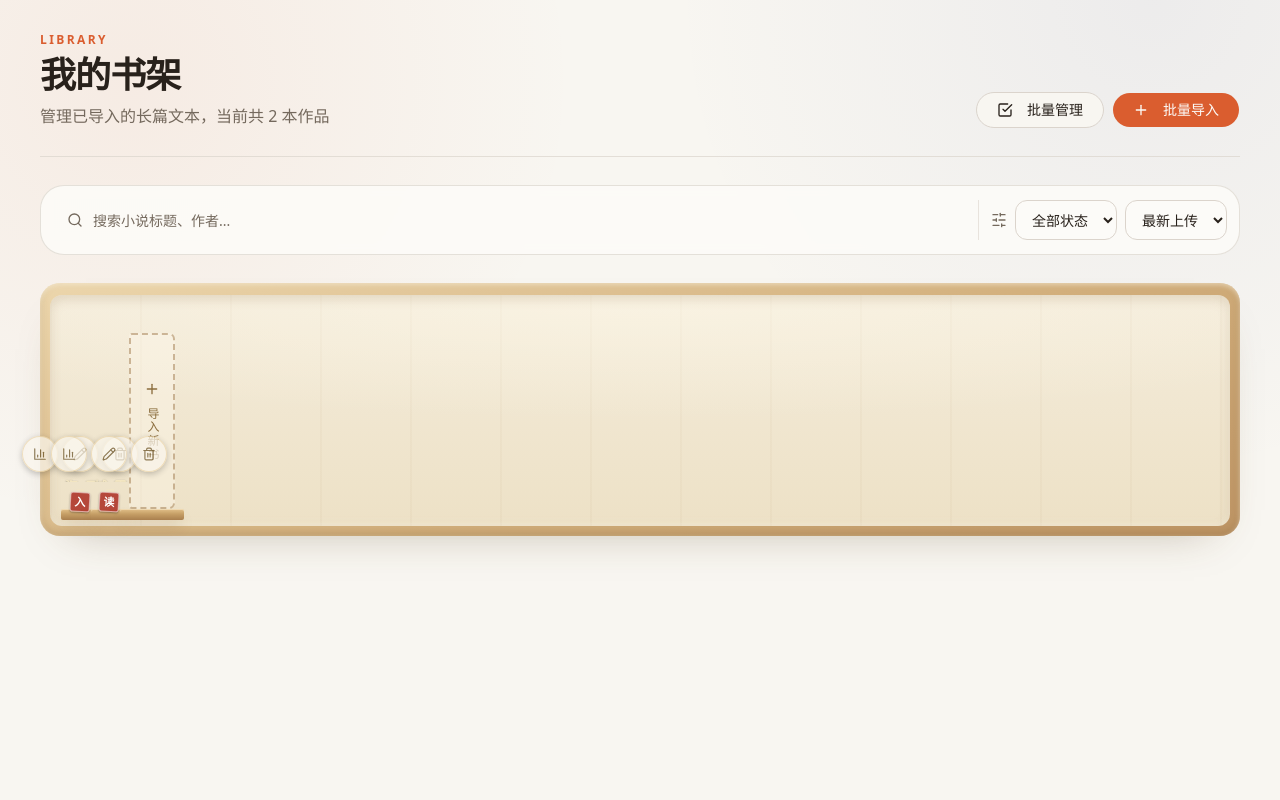
Test: NovelsPage › 按状态筛选
This screenshot has width=1280, height=800.
Select "导入中" in the 1st dropdown at (1066, 220), box [1015,200,1117,240]
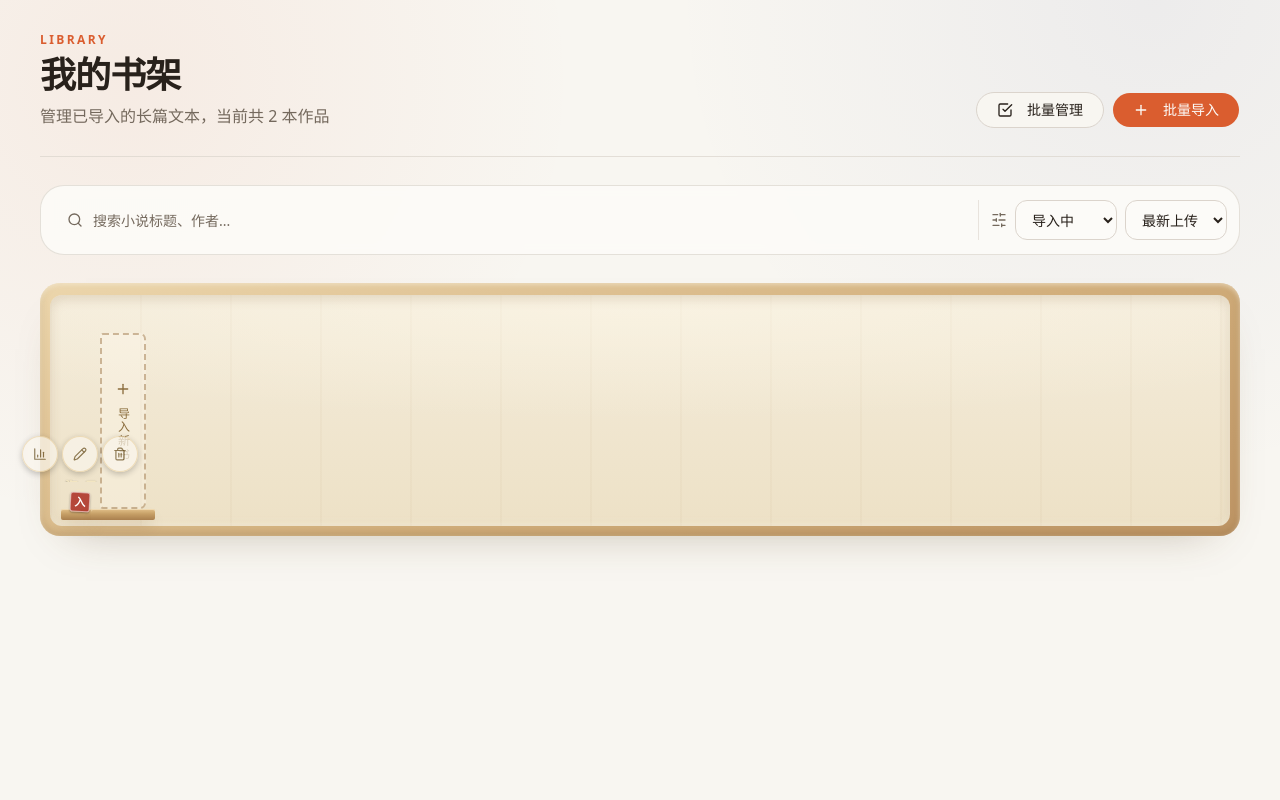
Expected: the text "云海" is shown, [60,478,99,482]
Now the text "雾城" is gone
